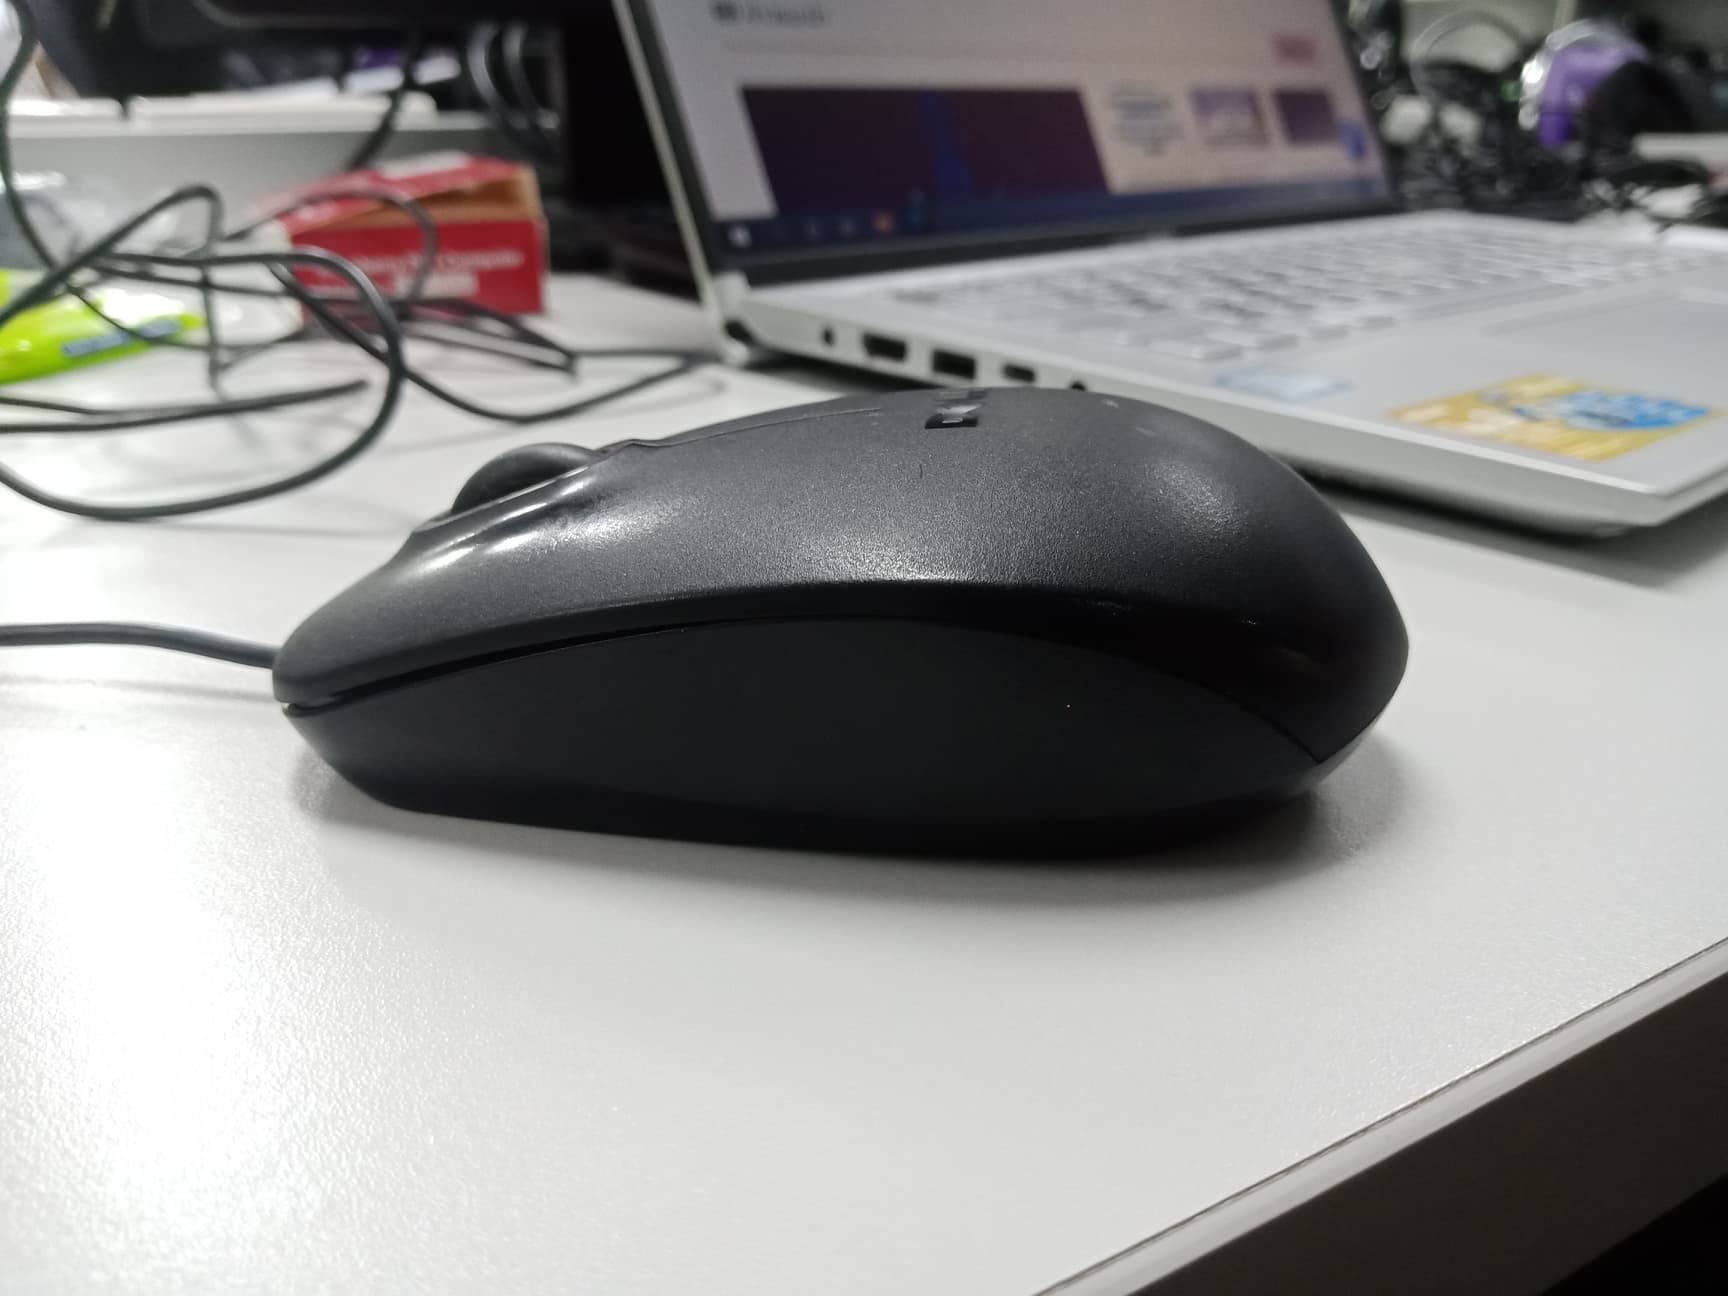mouse: (272, 387, 1411, 835)
